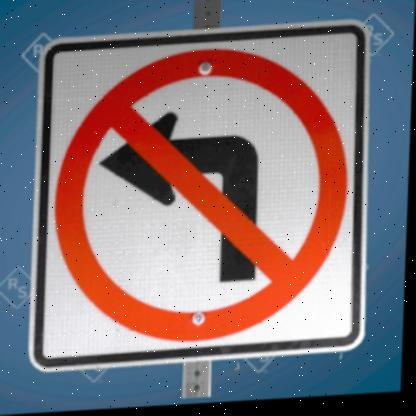No left turn: (42, 38, 365, 363)
